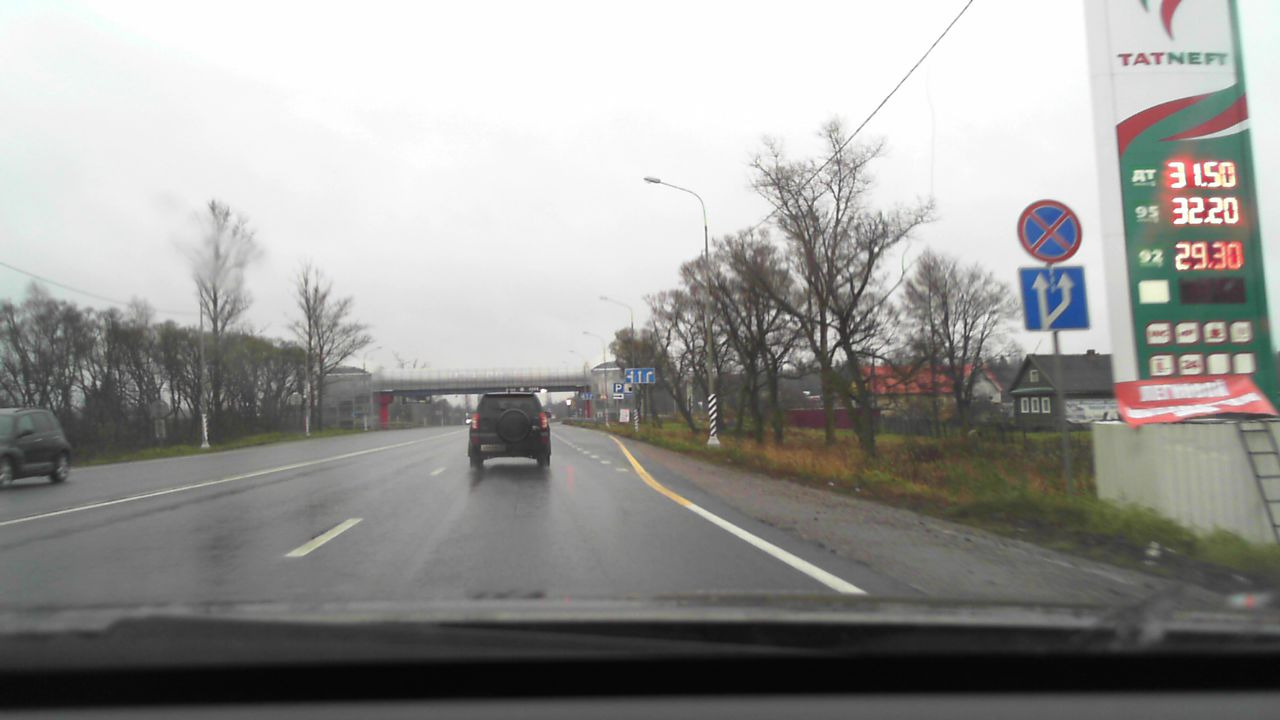No Parking: (1016, 199, 1082, 263)
